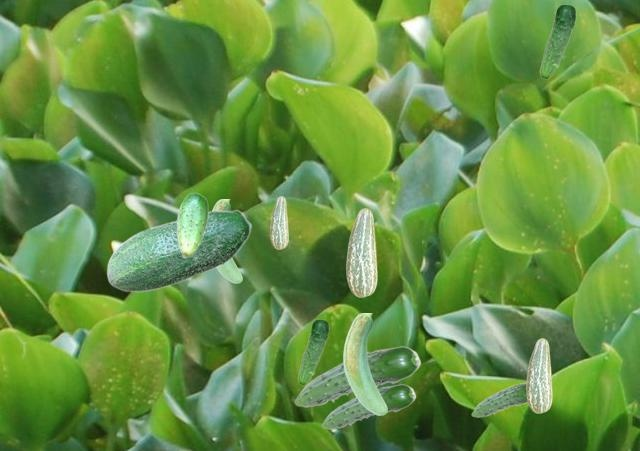cucumber: (106, 209, 251, 291), (294, 346, 420, 406), (343, 313, 386, 414), (321, 384, 415, 428), (539, 4, 575, 78), (346, 208, 376, 296), (212, 199, 241, 282), (176, 192, 207, 257), (297, 319, 328, 384), (471, 382, 526, 416), (526, 338, 551, 412), (270, 196, 287, 248)
